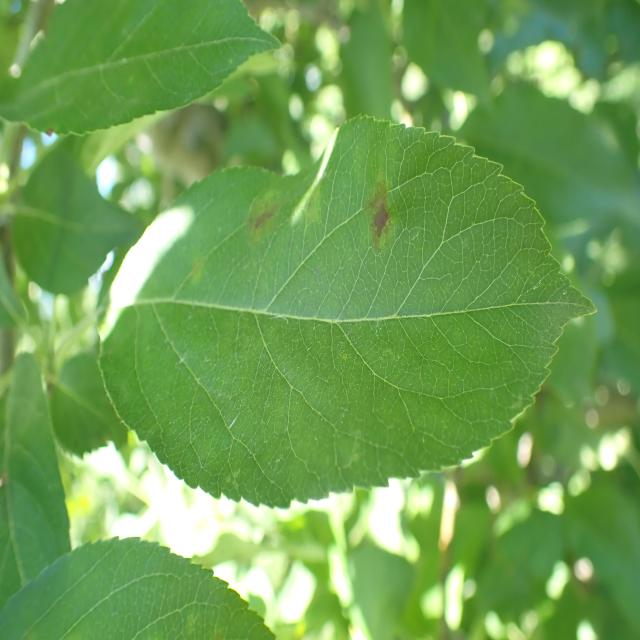scab: (131, 144, 525, 416)
